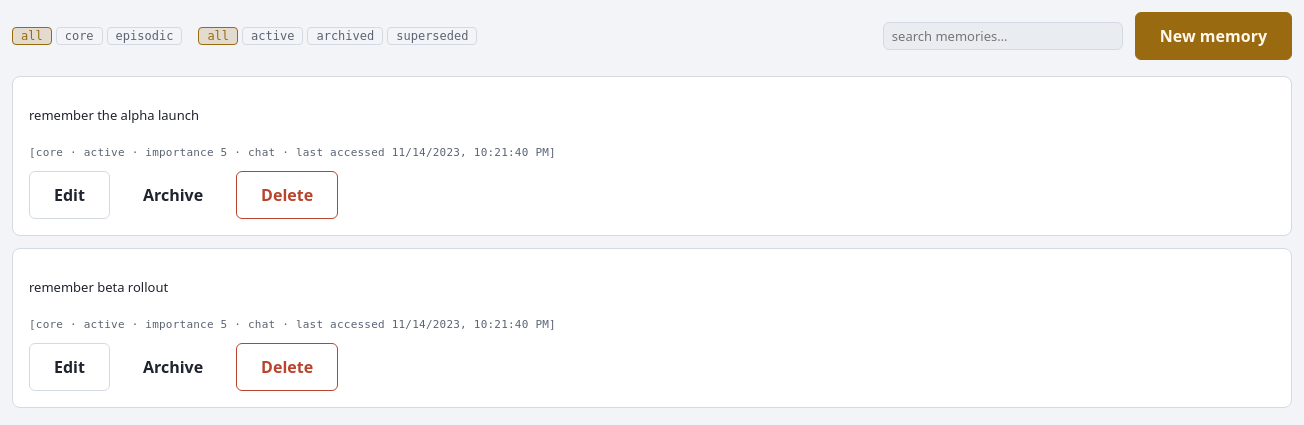
Scenario: search box filters client-side by text substring
Check: the text "remember the alpha launch" is shown, box [29,106,199,124]
Type "beta" into the search field with placeholder "search memories…" at (1003, 36), box [883,22,1123,50]
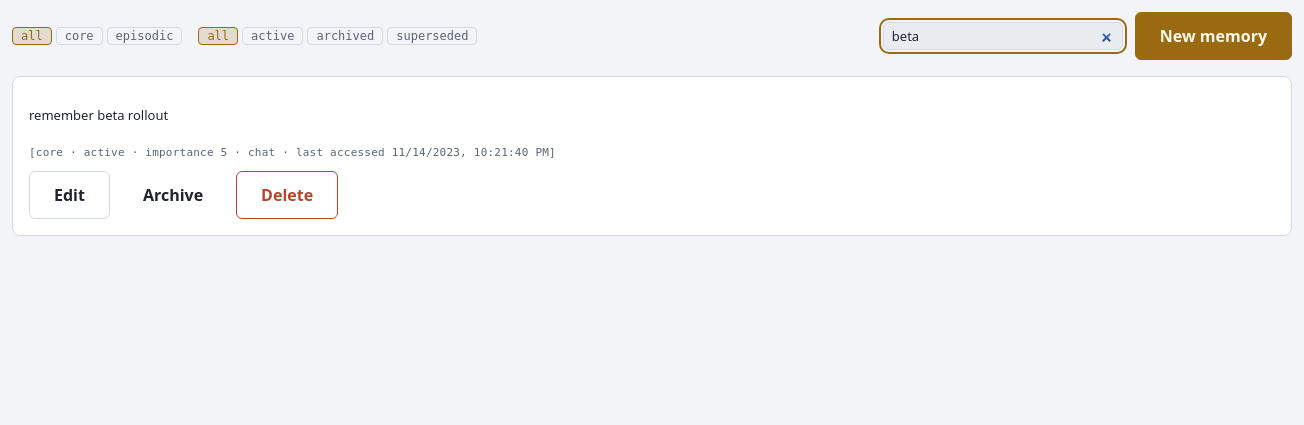
Check: the text "remember beta rollout" is shown, box [29,106,168,124]
Check: the text "remember the alpha launch" is gone
